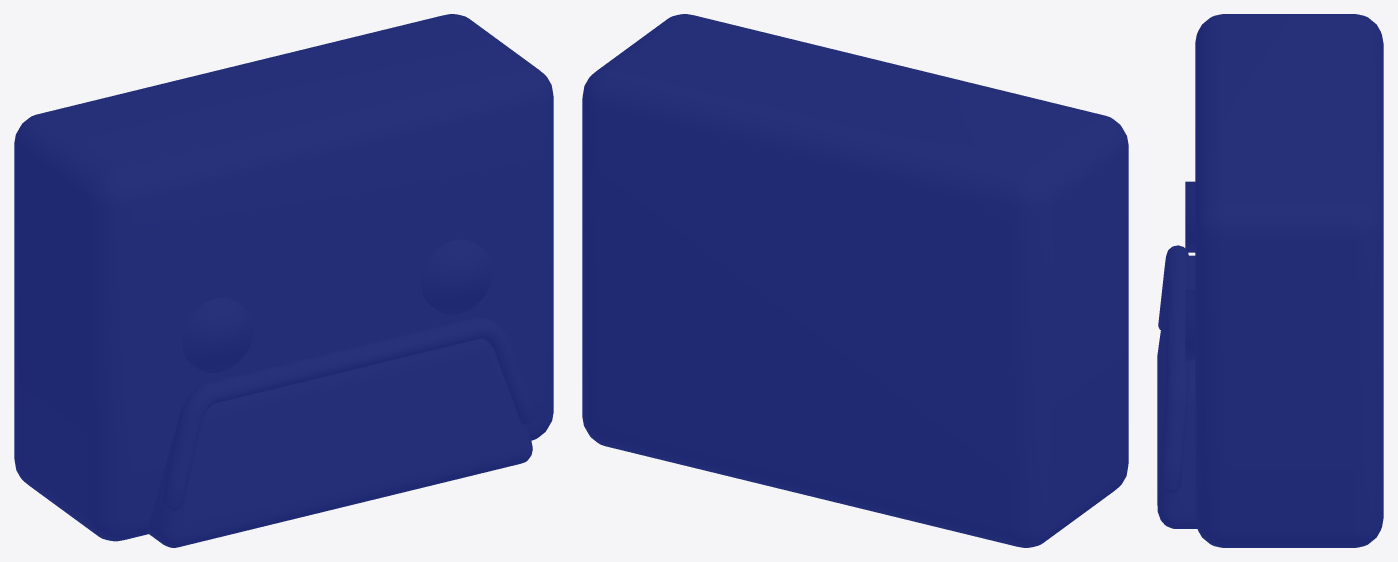
File: outline5_b.glb
3 renders of one model, left to right at view 1: azimuth 30°, elevation 25°; view 2: azimuth 150°, elevation 25°; view 3: azimuth 270°, elevation 25°, orthographic. The views are drawn at different scales.
Visible parts, largest first — view 1: head.001, mouth, eye, eye.001; view 2: head.001; view 3: head.001, mouth, eye, eye.001.
Part boxes in pixels (x1=…): head.001: x1=14, y1=14, x2=553, y2=547; mouth: x1=160, y1=317, x2=536, y2=510; eye: x1=182, y1=298, x2=253, y2=373; eye.001: x1=421, y1=239, x2=492, y2=314; head.001: x1=582, y1=14, x2=1128, y2=547; head.001: x1=1157, y1=14, x2=1383, y2=547; mouth: x1=1158, y1=245, x2=1188, y2=493; eye: x1=1185, y1=181, x2=1195, y2=252; eye.001: x1=1185, y1=290, x2=1195, y2=360.
Bounding box in the file's own units: 2 × 1.54 × 0.9141.
